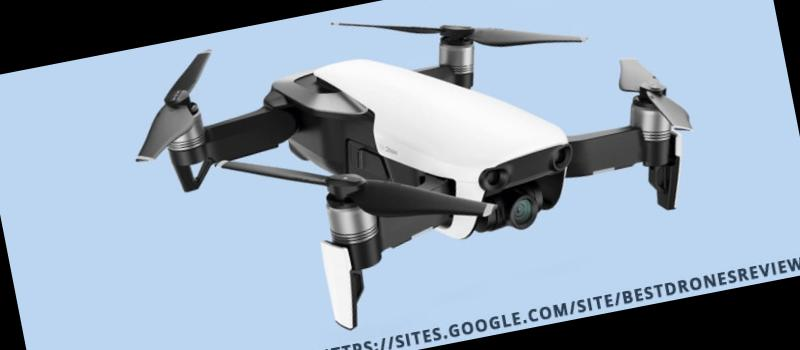drone: (128, 0, 746, 335)
